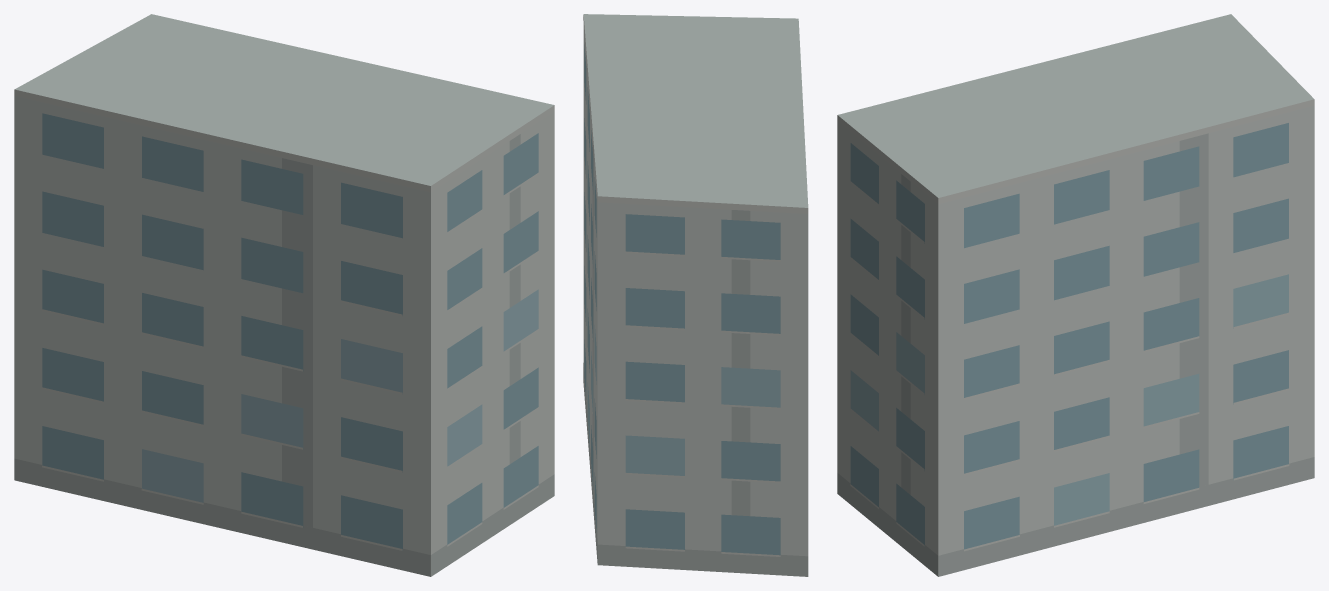
The model's file is survey-upis-32909827.glb.
3 views of the same model, side by side, from view 1: azimuth 30°, elevation 25°; view 2: azimuth 150°, elevation 25°; view 3: azimuth 270°, elevation 25° (orthographic). The views are drawn at different scales.
Parts seen in each view (by area): view 1: survey-upis-32909827.tmp; view 2: survey-upis-32909827.tmp; view 3: survey-upis-32909827.tmp.
Part boxes in pixels (bbox=[...]): survey-upis-32909827.tmp: bbox=[14, 14, 554, 576]; survey-upis-32909827.tmp: bbox=[583, 14, 808, 576]; survey-upis-32909827.tmp: bbox=[837, 14, 1314, 576].
Bounding box in the file's own units: 15.33 × 14.7 × 16.79.
